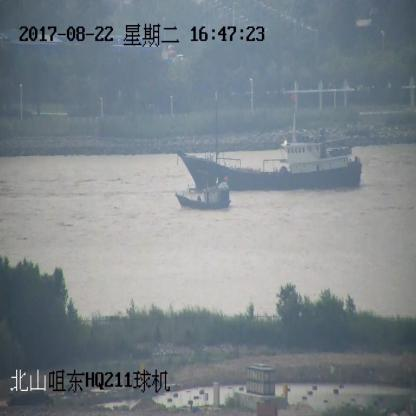Fishing Boat: (178, 87, 363, 190), (176, 175, 230, 210)
